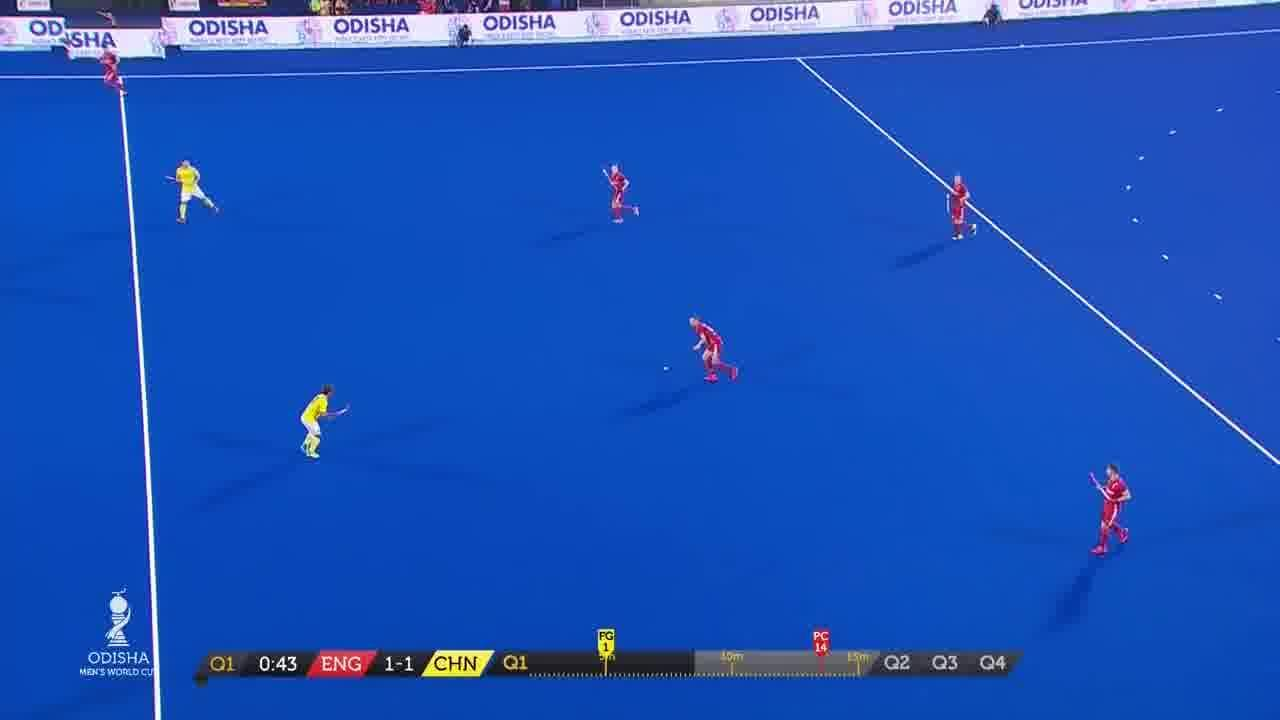ball: (658, 359, 676, 378)
